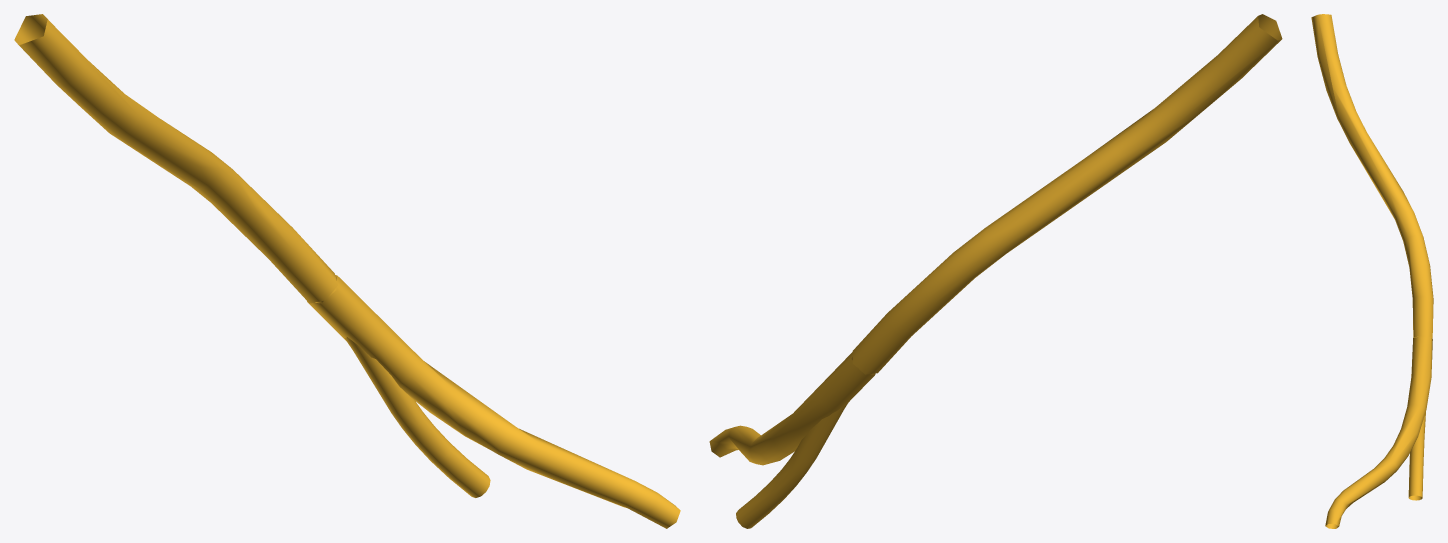
The model's file is nervoso-superior-trunk-of-brachial-plexus-l.glb.
3 views of the same model, side by side, from view 1: azimuth 30°, elevation 25°; view 2: azimuth 150°, elevation 25°; view 3: azimuth 270°, elevation 25° (orthographic). The views are drawn at different scales.
Parts seen in each view (by area): view 1: Superior trunk of brachial plexus.l, Anterior division of superior trunk of brachial plexus.l, Posterior division of superior trunk of brachial plexus.l; view 2: Superior trunk of brachial plexus.l, Anterior division of superior trunk of brachial plexus.l, Posterior division of superior trunk of brachial plexus.l; view 3: Superior trunk of brachial plexus.l, Anterior division of superior trunk of brachial plexus.l, Posterior division of superior trunk of brachial plexus.l.
Part boxes in pixels (x1,y1,x2,y2): Superior trunk of brachial plexus.l: (14, 14, 337, 303); Anterior division of superior trunk of brachial plexus.l: (307, 275, 680, 528); Posterior division of superior trunk of brachial plexus.l: (316, 287, 490, 497); Superior trunk of brachial plexus.l: (852, 14, 1282, 374); Anterior division of superior trunk of brachial plexus.l: (709, 352, 875, 465); Posterior division of superior trunk of brachial plexus.l: (736, 370, 861, 528); Superior trunk of brachial plexus.l: (1311, 14, 1433, 338); Anterior division of superior trunk of brachial plexus.l: (1325, 336, 1432, 528); Posterior division of superior trunk of brachial plexus.l: (1408, 412, 1425, 500).
Bounding box in the file's own units: 0.0578 × 0.0555 × 0.0174.
